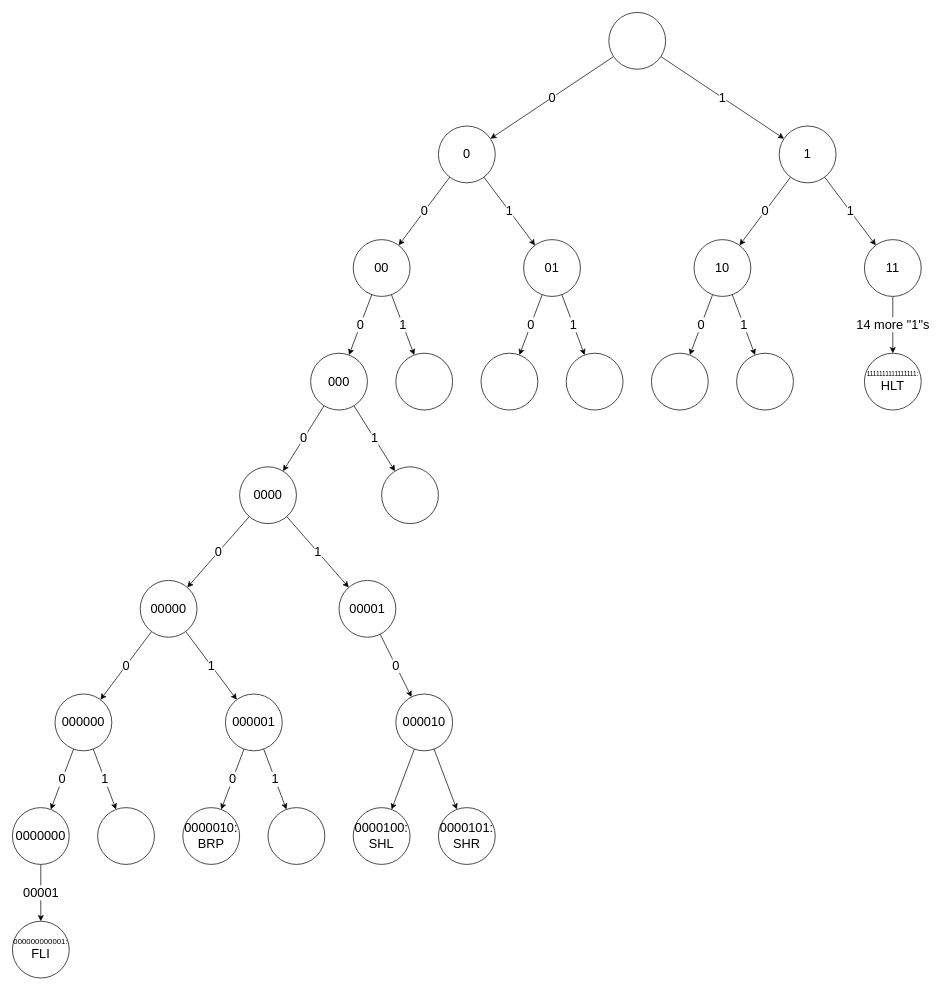
This 941x990 diagram has some shape labels left out. Each missing label, with the box of its shape:
0000001: BRN: (97, 807, 154, 864)
0000011: CMP: (267, 807, 325, 864)
0001: STO: (381, 466, 438, 524)
001: LDA: (395, 353, 453, 410)
010: AND: (480, 353, 538, 410)
011: XOR: (566, 353, 623, 410)
100: ADD: (651, 353, 708, 410)
101: SUB: (736, 353, 793, 410)
START: (608, 12, 666, 69)
